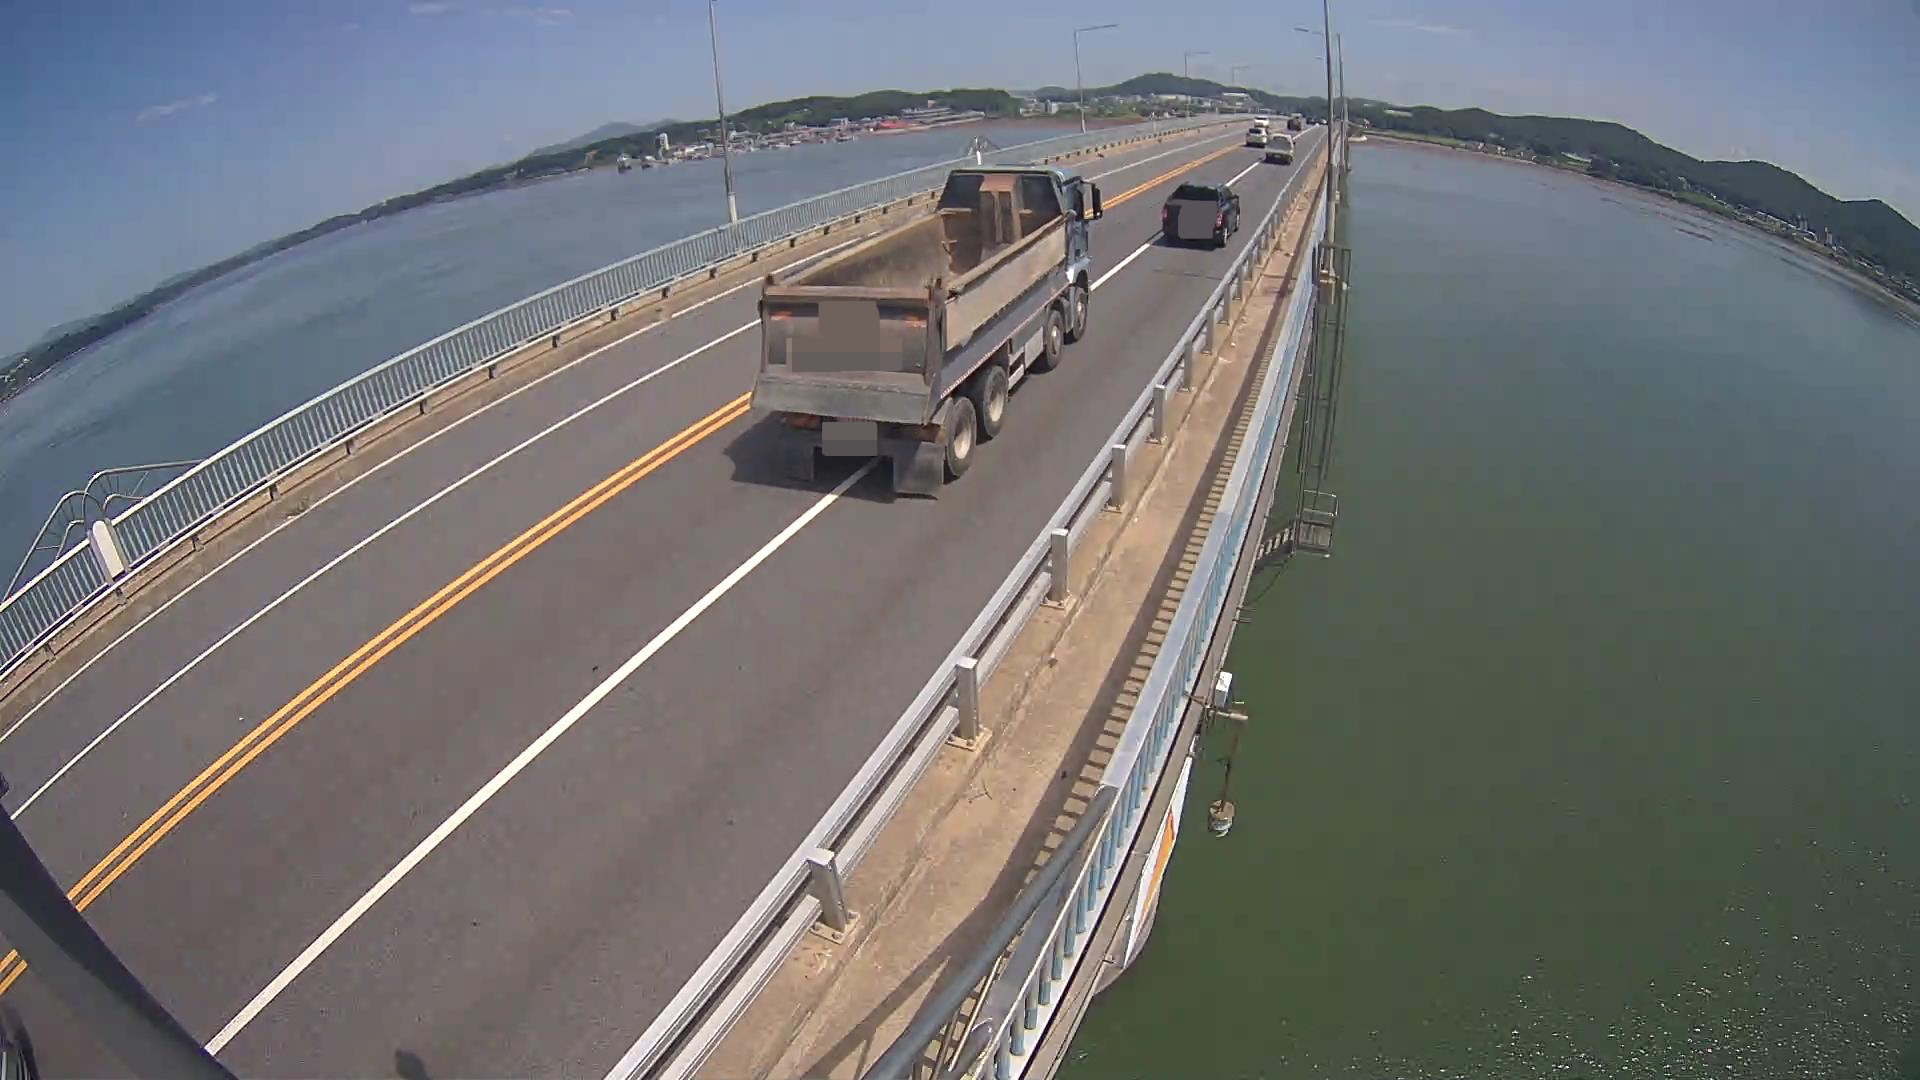정상차량: (748, 164, 1102, 495)
